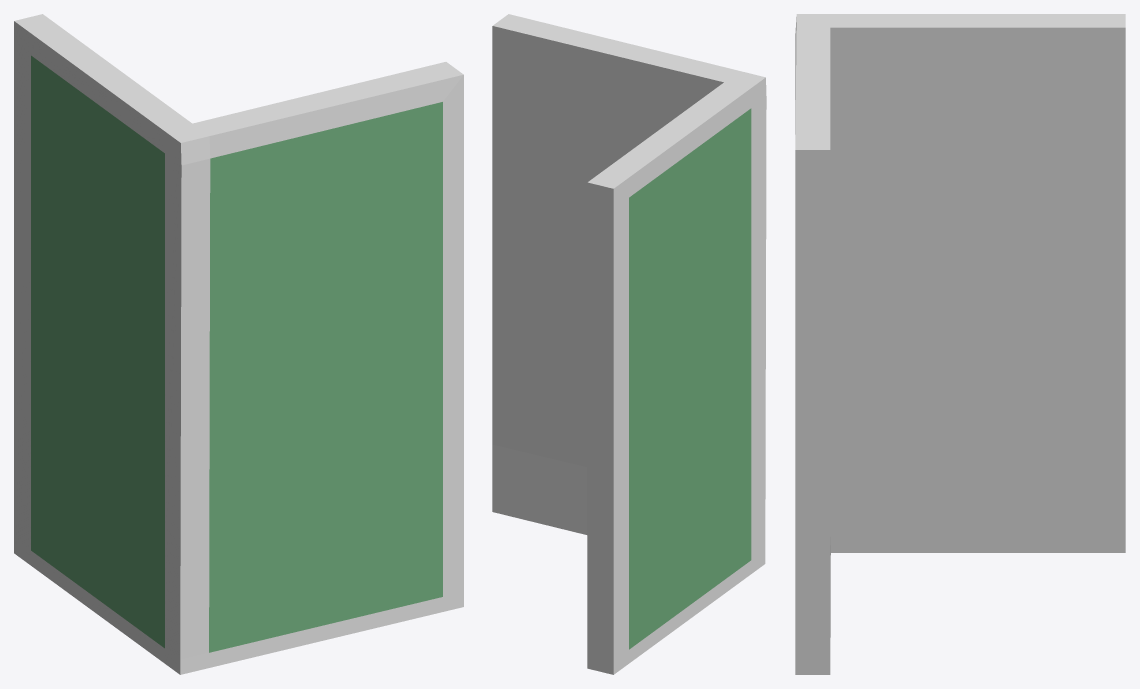
File: Corner-Top-B.fbx
3 views of the same model, side by side, from view 1: azimuth 30°, elevation 25°; view 2: azimuth 150°, elevation 25°; view 3: azimuth 270°, elevation 25° (orthographic). The views are drawn at different scales.
Visible parts, largest first — view 1: Corner-Top B; view 2: Corner-Top B; view 3: Corner-Top B.
Part boxes in pixels (left/top/right/bottom): Corner-Top B: left=14, top=14, right=463, bottom=674; Corner-Top B: left=492, top=14, right=766, bottom=674; Corner-Top B: left=795, top=14, right=1125, bottom=674.
Size of the model in its own units: 400 by 721 by 411.
